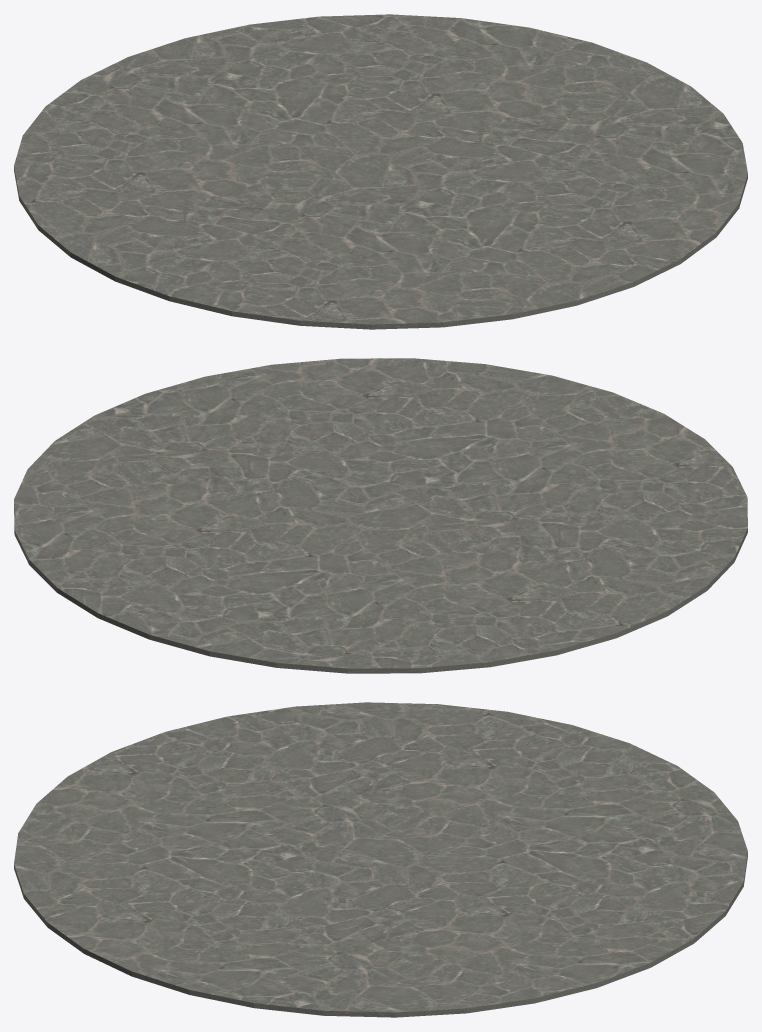
The model's file is floor_2.glb.
3 renders of one model, top to bottom at view 1: azimuth 30°, elevation 25°; view 2: azimuth 150°, elevation 25°; view 3: azimuth 270°, elevation 25°, orthographic.
Visible parts, largest first — view 1: Cylinder.050; view 2: Cylinder.050; view 3: Cylinder.050.
Part boxes in pixels (bbox=[...]): Cylinder.050: bbox=[14, 14, 747, 329]; Cylinder.050: bbox=[14, 358, 747, 673]; Cylinder.050: bbox=[14, 702, 747, 1017].
Bounding box in the file's own units: 13.19 × 0.1 × 13.19.
1 material, 1 textured.
